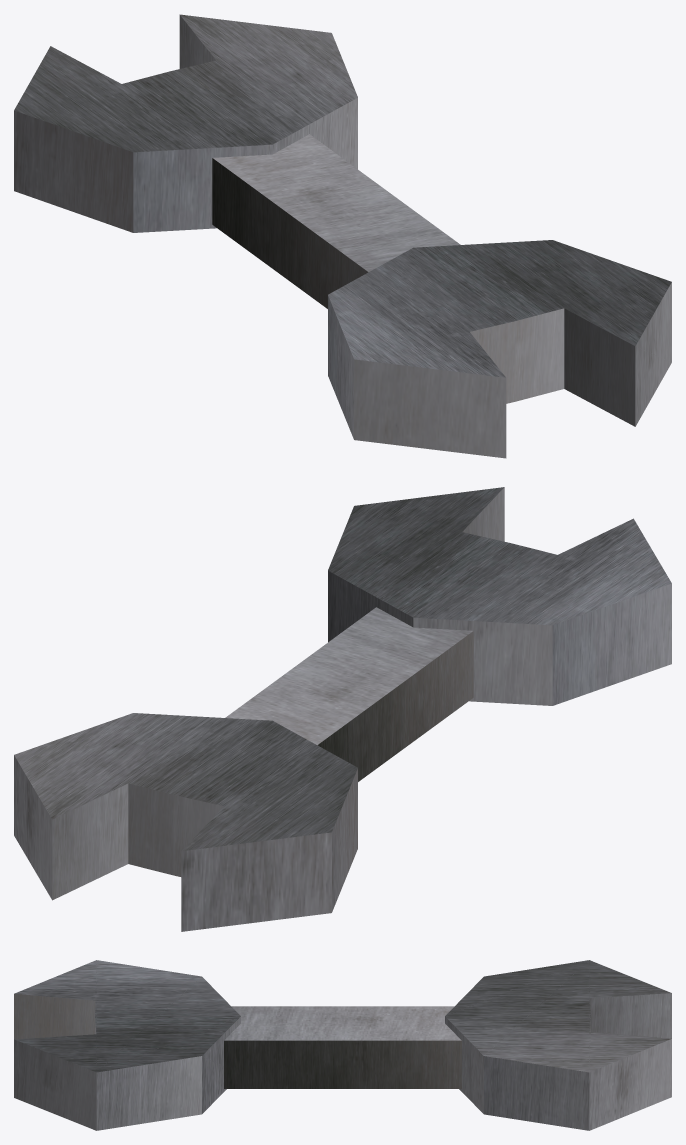
The model's file is LlaveInglesa1.fbx.
The picture shows the model from 3 angles, top to bottom: view 1: azimuth 30°, elevation 25°; view 2: azimuth 150°, elevation 25°; view 3: azimuth 270°, elevation 25°; orthographic projection. The views are drawn at different scales.
Visible parts, largest first — view 1: Cube.005; view 2: Cube.005; view 3: Cube.005.
Boxes of the visible parts, x1,y1,x2,y2 form: Cube.005: [14, 14, 671, 458]; Cube.005: [14, 487, 671, 931]; Cube.005: [14, 960, 671, 1130].
Bounding box in the file's own units: 16.36 × 3.97 × 40.48.
1 material, 1 textured.
